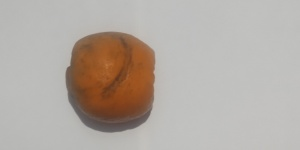BAD: (69, 30, 159, 126)
